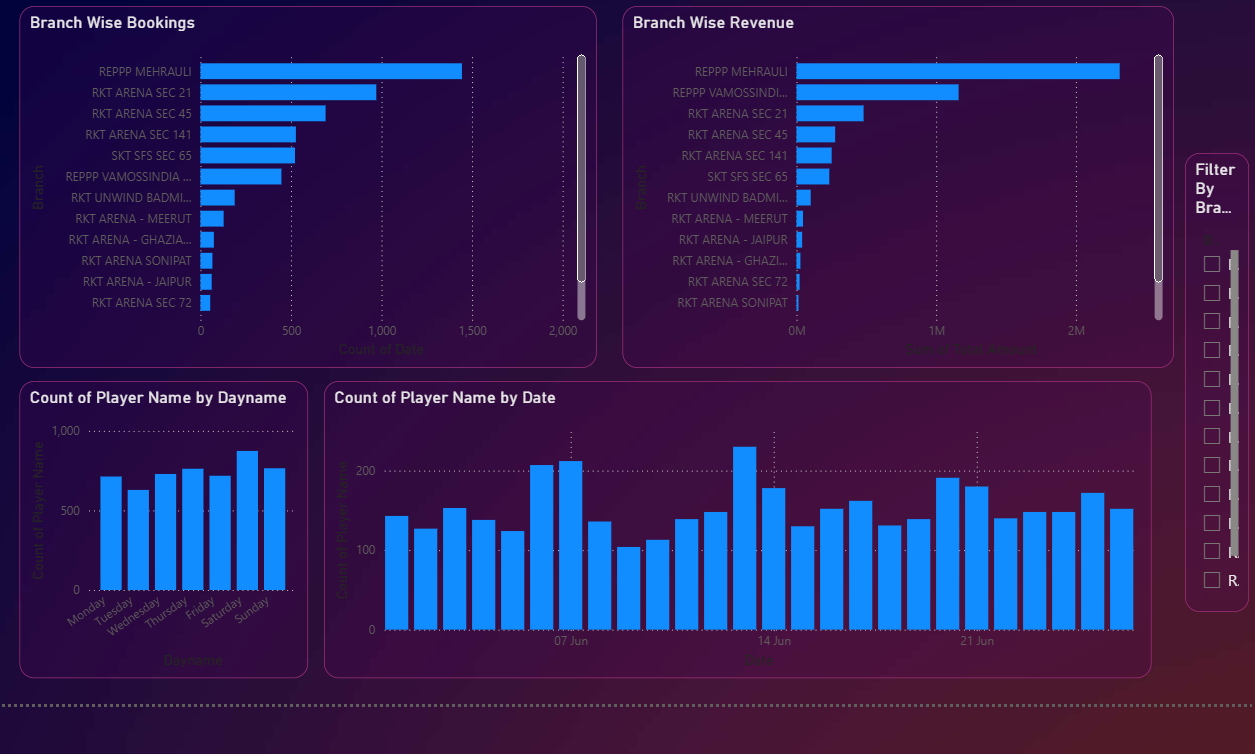

Layout of this report page (visuals, bound fields, positions):
{"tool":"powerbi","page":{"name":"Page 2","canvas":[1280,720],"ordinal":1},"visuals":[{"type":"clusteredBarChart","title":"Branch Wise Revenue","fields":{"Category":["pub?gid=0&single=true&output=csv.Branch"],"Y":["Sum(pub?gid=0&single=true&output=csv.Total Amount)"]},"box":[635.2,14.7,556.5,365.2],"z":0},{"type":"clusteredBarChart","title":"Branch Wise Bookings","fields":{"Category":["pub?gid=0&single=true&output=csv.Branch"],"Y":["CountNonNull(pub?gid=0&single=true&output=csv.Date)"]},"box":[26.5,14.7,582.6,365.2],"z":1000},{"type":"lineClusteredColumnComboChart","fields":{"Category":["pub?gid=0&single=true&output=csv.Daynumber"],"Y":["CountNonNull(pub?gid=0&single=true&output=csv.Player Name)"]},"box":[26.5,394.1,291.2,300],"z":2000},{"type":"lineClusteredColumnComboChart","fields":{"Y":["Count(pub?gid=0&single=true&output=csv.Player Name)"],"Category":["pub?gid=0&single=true&output=csv.Date"]},"box":[333.8,394.1,835.3,300],"z":3000},{"type":"slicer","title":"Filter By Branch","fields":{"Values":["pub?gid=0&single=true&output=csv.Branch"]},"box":[1202.9,163.2,64.7,463.2],"z":3001}]}

Visuals, with their boxes on the page's 1280x720 design canvas (x1, y1, x2, y2). These are canvas units, not pixel positions in the 1255x754 screenshot, which may show the page scaled, cropped or inside an application window:
"Branch Wise Revenue" clusteredBarChart: {"left": 635, "top": 15, "right": 1192, "bottom": 380}
"Branch Wise Bookings" clusteredBarChart: {"left": 26, "top": 15, "right": 609, "bottom": 380}
lineClusteredColumnComboChart - pub?gid=0&single=true&output=csv.Daynumber x CountNonNull(pub?gid=0&single=true&output=csv.Player Name): {"left": 26, "top": 394, "right": 318, "bottom": 694}
lineClusteredColumnComboChart - Count(pub?gid=0&single=true&output=csv.Player Name) x pub?gid=0&single=true&output=csv.Date: {"left": 334, "top": 394, "right": 1169, "bottom": 694}
"Filter By Branch" slicer: {"left": 1203, "top": 163, "right": 1268, "bottom": 626}
